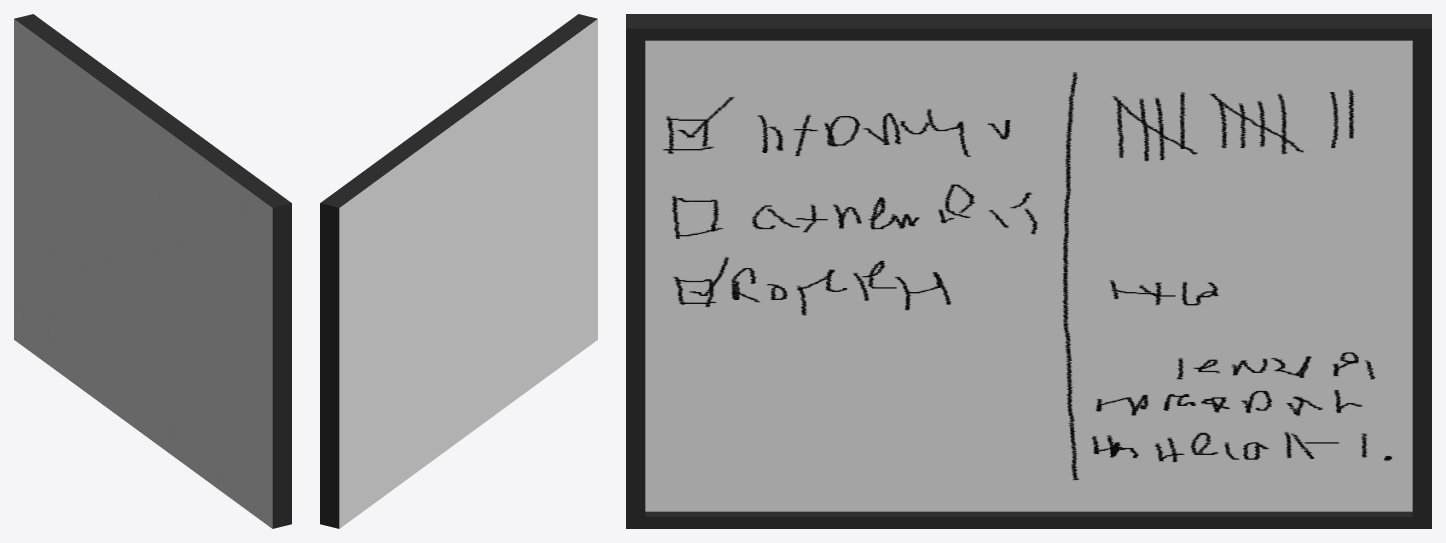
The model's file is blackboard.fbx.
3 views of the same model, side by side, from view 1: azimuth 30°, elevation 25°; view 2: azimuth 150°, elevation 25°; view 3: azimuth 270°, elevation 25° (orthographic). The views are drawn at different scales.
Parts seen in each view (by area): view 1: Blackboard; view 2: Blackboard; view 3: Blackboard.
Boxes of the visible parts, box(x1,y1,x2,y2) form: Blackboard: box(14, 14, 291, 528); Blackboard: box(320, 14, 597, 528); Blackboard: box(626, 14, 1431, 528).
Size of the model in its own units: 0.0883 by 1.39 by 2.03.
